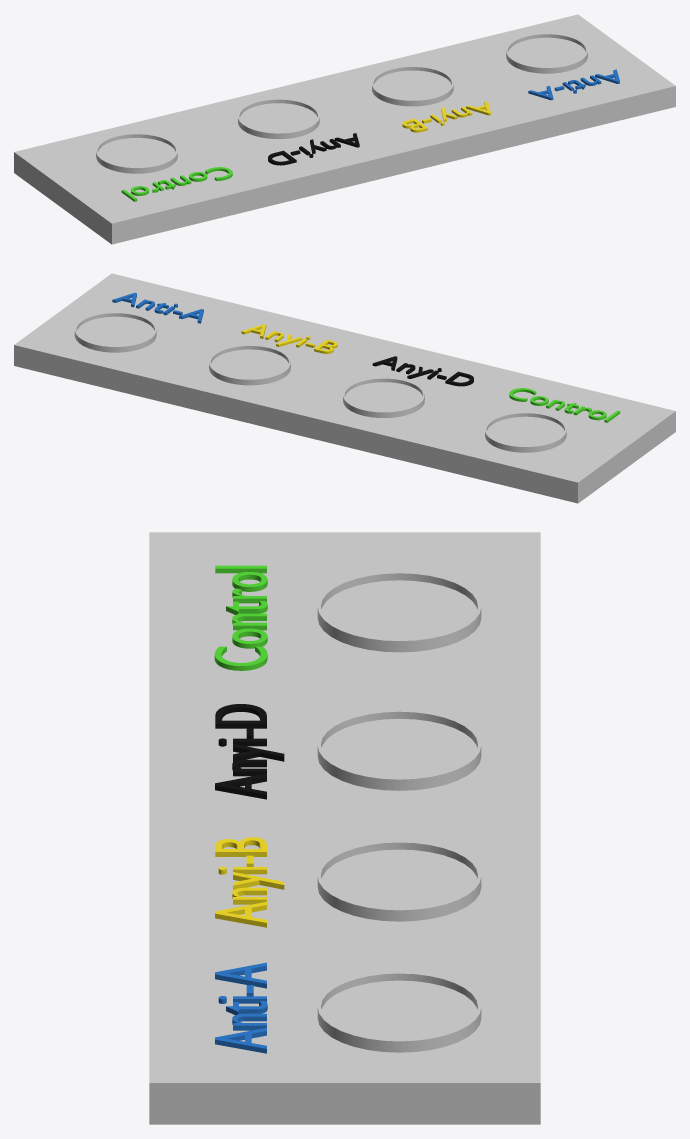
File: bord test 99.fbx
3 renders of one model, top to bottom at view 1: azimuth 30°, elevation 25°; view 2: azimuth 150°, elevation 25°; view 3: azimuth 270°, elevation 25°, orthographic. The views are drawn at different scales.
Visible parts, largest first — view 1: Cube.174, Cylinder.039, Cylinder.041, Cylinder, Cylinder.040, Text.004, Text.003, Text.002, Text.001; view 2: Cube.174, Cylinder, Cylinder.041, Cylinder.039, Cylinder.040, Text.004, Text.003, Text.002, Text.001; view 3: Cube.174, Cylinder.040, Cylinder.039, Cylinder, Cylinder.041, Text.004, Text.003, Text.002, Text.001.
Part boxes in pixels (left/top/right/bottom): Cube.174: left=14, top=14, right=675, bottom=244; Cylinder.039: left=372, top=66, right=453, bottom=106; Cylinder.041: left=96, top=133, right=177, bottom=173; Cylinder: left=506, top=33, right=587, bottom=73; Cylinder.040: left=238, top=99, right=319, bottom=139; Text.004: left=121, top=167, right=232, bottom=201; Text.003: left=268, top=133, right=359, bottom=165; Text.002: left=402, top=101, right=490, bottom=132; Text.001: left=528, top=69, right=619, bottom=100; Cube.174: left=14, top=273, right=675, bottom=503; Cylinder: left=74, top=312, right=156, bottom=352; Cylinder.041: left=485, top=412, right=566, bottom=452; Cylinder.039: left=209, top=345, right=290, bottom=385; Cylinder.040: left=343, top=378, right=424, bottom=417; Text.004: left=509, top=388, right=620, bottom=422; Text.003: left=372, top=356, right=473, bottom=386; Text.002: left=241, top=324, right=337, bottom=353; Text.001: left=112, top=292, right=203, bottom=323; Cube.174: left=149, top=532, right=540, bottom=1124; Cylinder.040: left=317, top=710, right=481, bottom=790; Cylinder.039: left=317, top=841, right=481, bottom=921; Cylinder: left=317, top=972, right=481, bottom=1052; Cylinder.041: left=317, top=572, right=481, bottom=652; Text.004: left=214, top=565, right=267, bottom=670; Text.003: left=215, top=704, right=284, bottom=799; Text.002: left=215, top=837, right=284, bottom=927; Text.001: left=215, top=962, right=267, bottom=1053.
Bounding box in the file's own units: 119 × 5.34 × 35.69.
